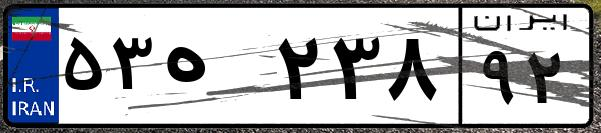2: (270, 28, 330, 110), (525, 38, 570, 115)
3: (330, 28, 385, 110), (110, 28, 158, 98)
5: (57, 26, 110, 100)
8: (385, 28, 445, 110)
9: (475, 38, 525, 113)
ه: (158, 20, 270, 120)
